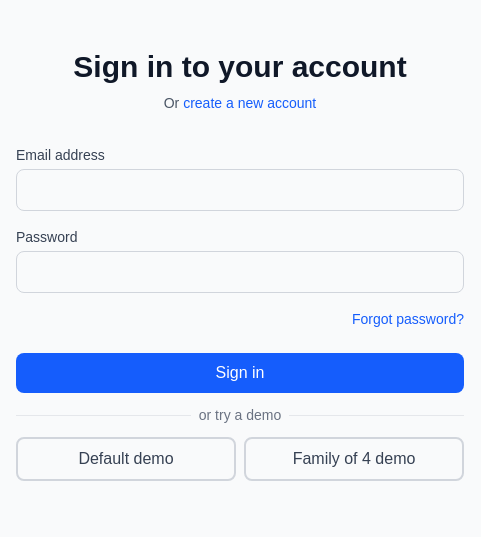
it: LoginPage › shows error when login rejects
Type "bad@example.com" into the field labelled "Email address".
click(240, 190); type("bad@example.com")  # box x1=16 y1=169 x2=464 y2=211
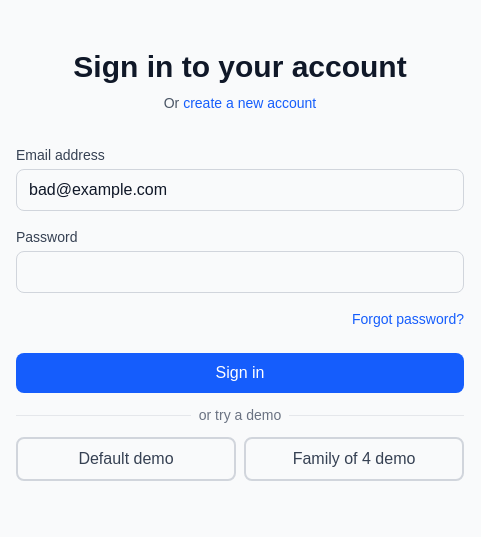
Type "wrong" into the password field labelled "Password".
click(240, 272); type("wrong")  # box x1=16 y1=251 x2=464 y2=293
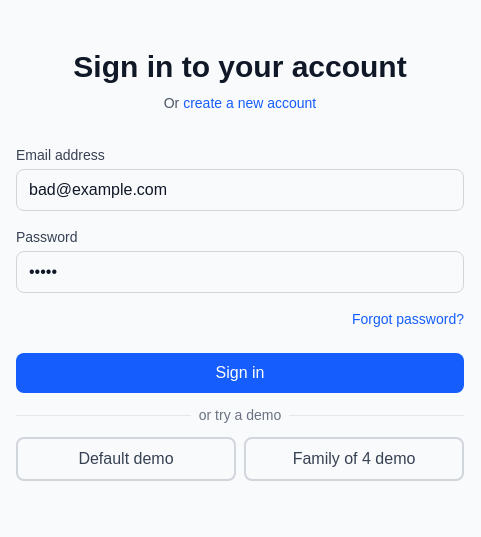
Click the button "Sign in".
click(240, 373)  # box x1=16 y1=353 x2=464 y2=393
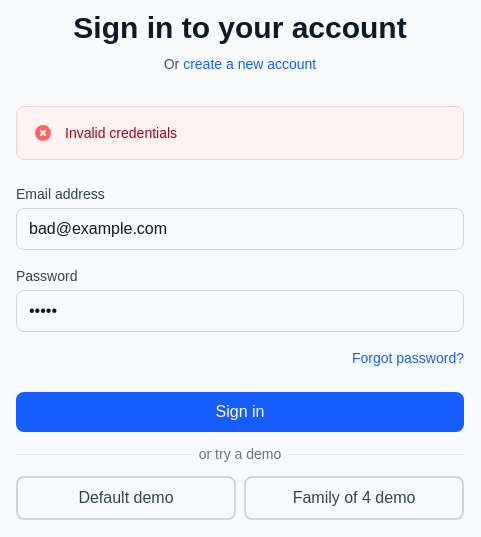
expect the text "Invalid credentials" is shown: met, box x1=65 y1=123 x2=177 y2=143
